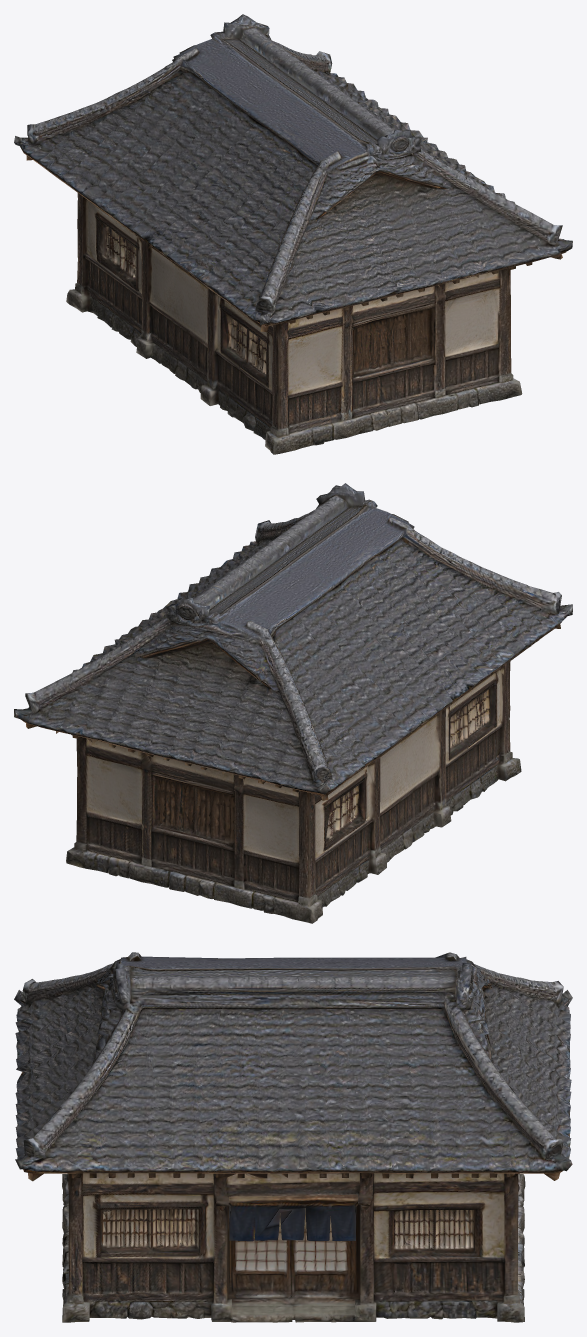
Rendered from teahouse.glb.
3 views of the same model, one above another, from view 1: azimuth 30°, elevation 25°; view 2: azimuth 150°, elevation 25°; view 3: azimuth 270°, elevation 25° (orthographic). The views are drawn at different scales.
Parts seen in each view (by area): view 1: tripo_node_bc9155e0-77b7-4947-aeb3-2e1f2bcc7451; view 2: tripo_node_bc9155e0-77b7-4947-aeb3-2e1f2bcc7451; view 3: tripo_node_bc9155e0-77b7-4947-aeb3-2e1f2bcc7451.
Boxes of the visible parts, box(x1,y1,x2,y2) form: tripo_node_bc9155e0-77b7-4947-aeb3-2e1f2bcc7451: box(14, 14, 572, 454); tripo_node_bc9155e0-77b7-4947-aeb3-2e1f2bcc7451: box(14, 483, 572, 923); tripo_node_bc9155e0-77b7-4947-aeb3-2e1f2bcc7451: box(14, 952, 572, 1322).
Size of the model in its own units: 8.79 by 7.2 by 12.06.
1 material, 1 textured.
